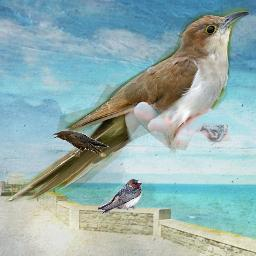Crow: (51, 129, 110, 157)
Cuckoo: (4, 7, 249, 202)
Swallow: (98, 179, 142, 214)
